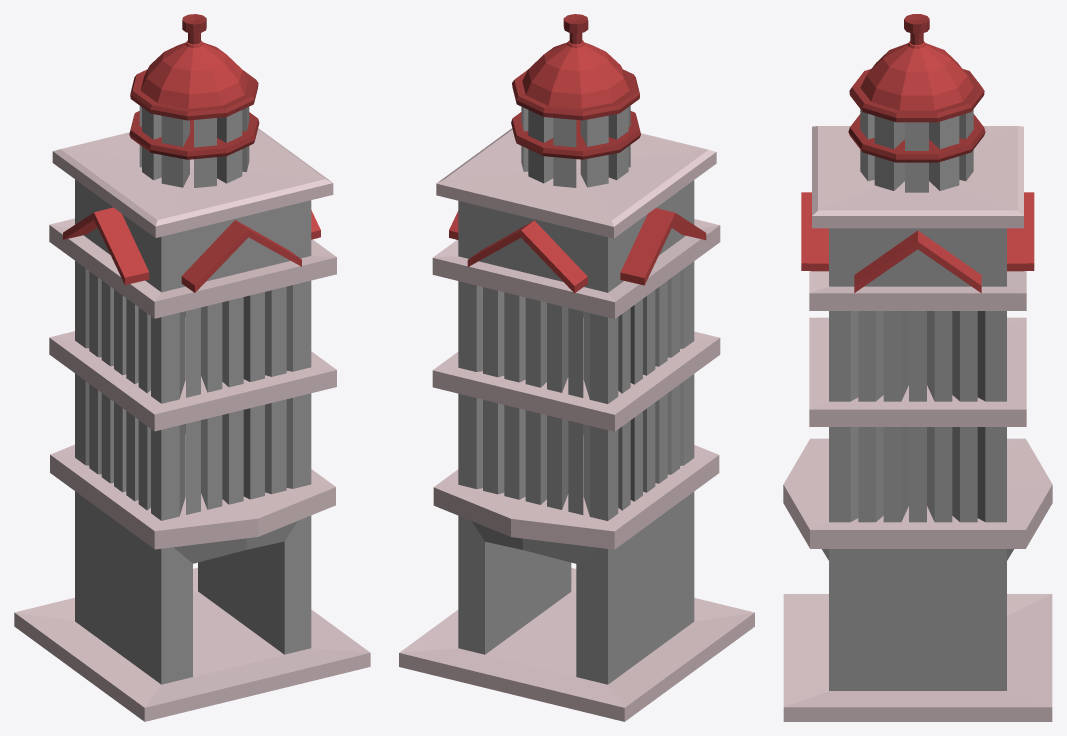
Rendered from house2.fbx.
3 views of the same model, side by side, from view 1: azimuth 30°, elevation 25°; view 2: azimuth 150°, elevation 25°; view 3: azimuth 270°, elevation 25° (orthographic). The views are drawn at different scales.
Visible parts, largest first — view 1: mid_build .001_LOD0; view 2: mid_build .001_LOD0; view 3: mid_build .001_LOD0.
Boxes of the visible parts, left/top/right/bottom form: mid_build .001_LOD0: left=14, top=14, right=370, bottom=721; mid_build .001_LOD0: left=399, top=14, right=754, bottom=721; mid_build .001_LOD0: left=783, top=14, right=1052, bottom=721.
Size of what is drawn, in the model's own units: 2186 by 5803 by 2189.
